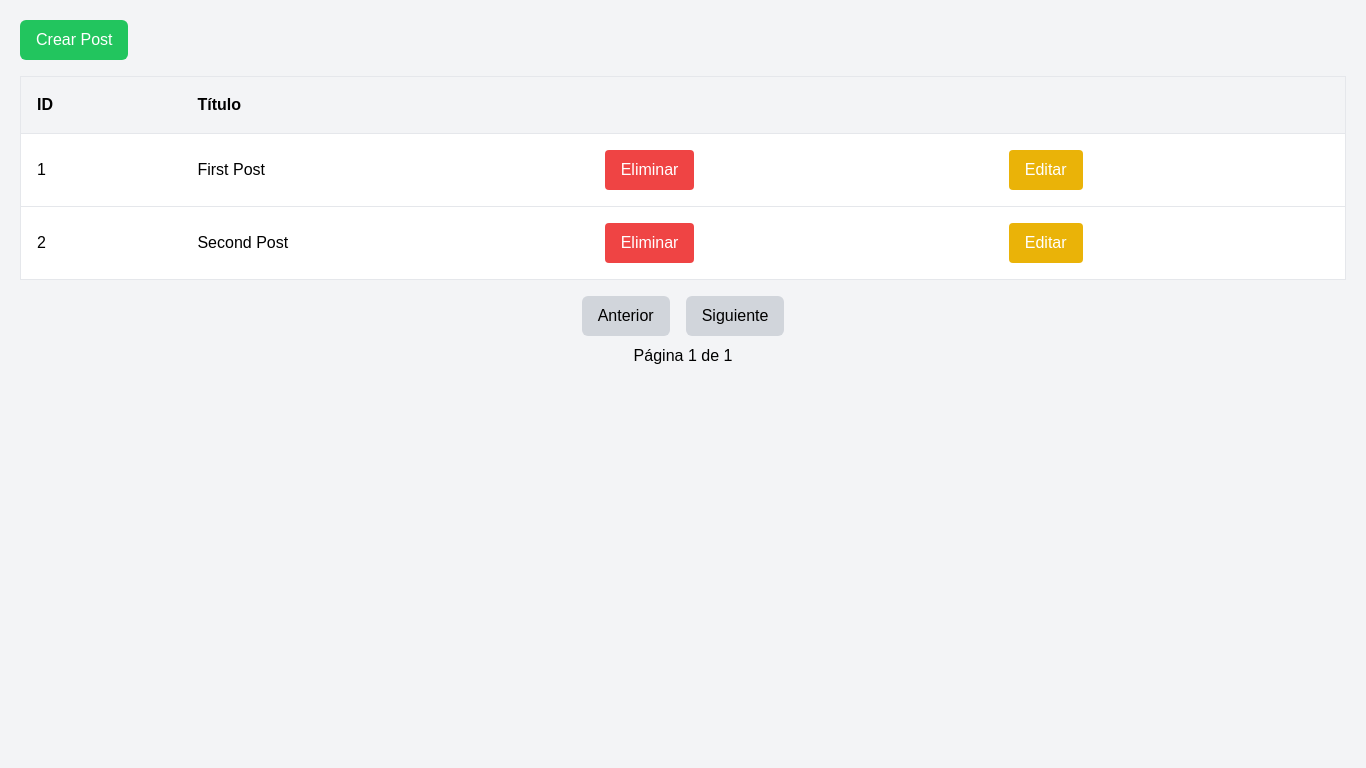
Scenario: PostList Component › handles edit post functionality
expect the text "First Post" is shown: met, box [181,134,589,206]
# Click en el botón "Editar" del primer post
Step 1. Click the button "Editar" in the row of "First Post" → (1046, 170), box [1009,150,1083,190]
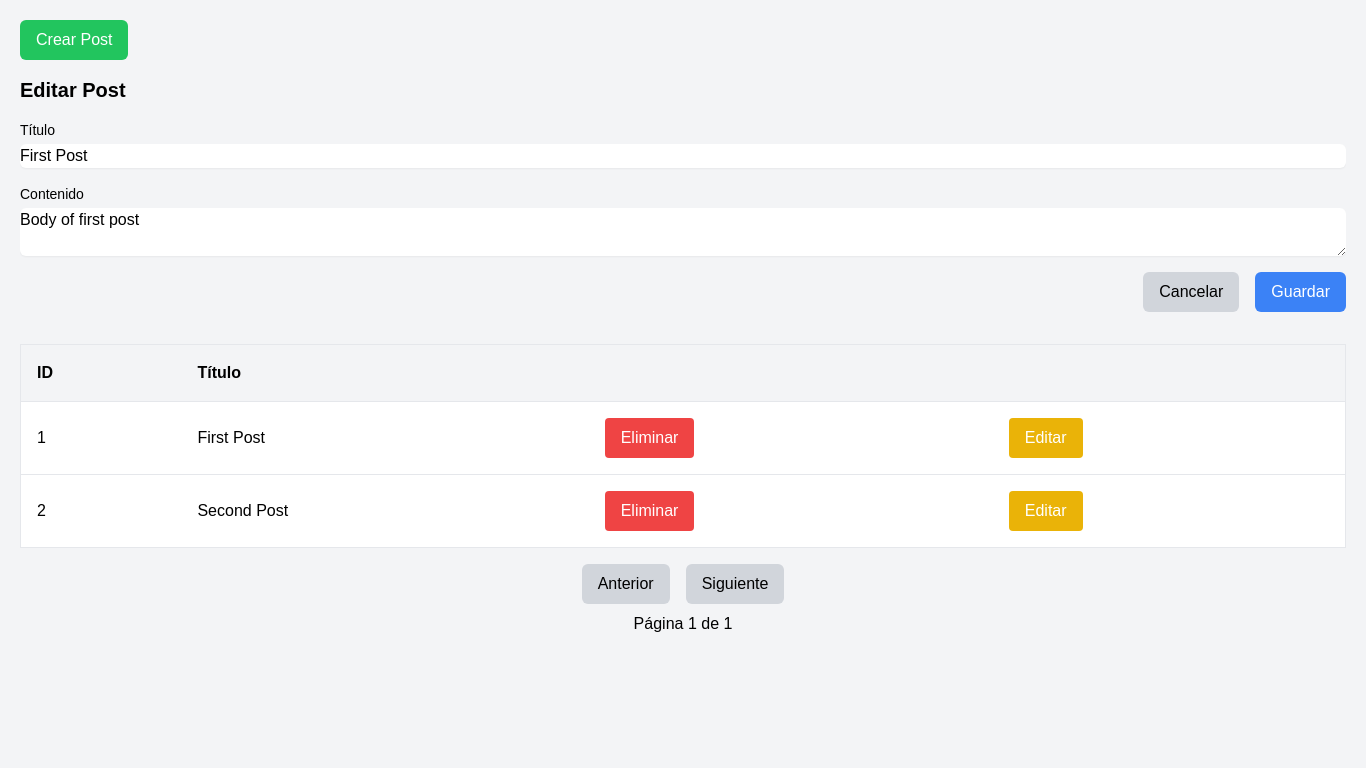
# Cambiar el título
Step 2. Replace the text in the field labelled "Título" with "Updated Post" → (683, 156), box [20,144,1346,168]
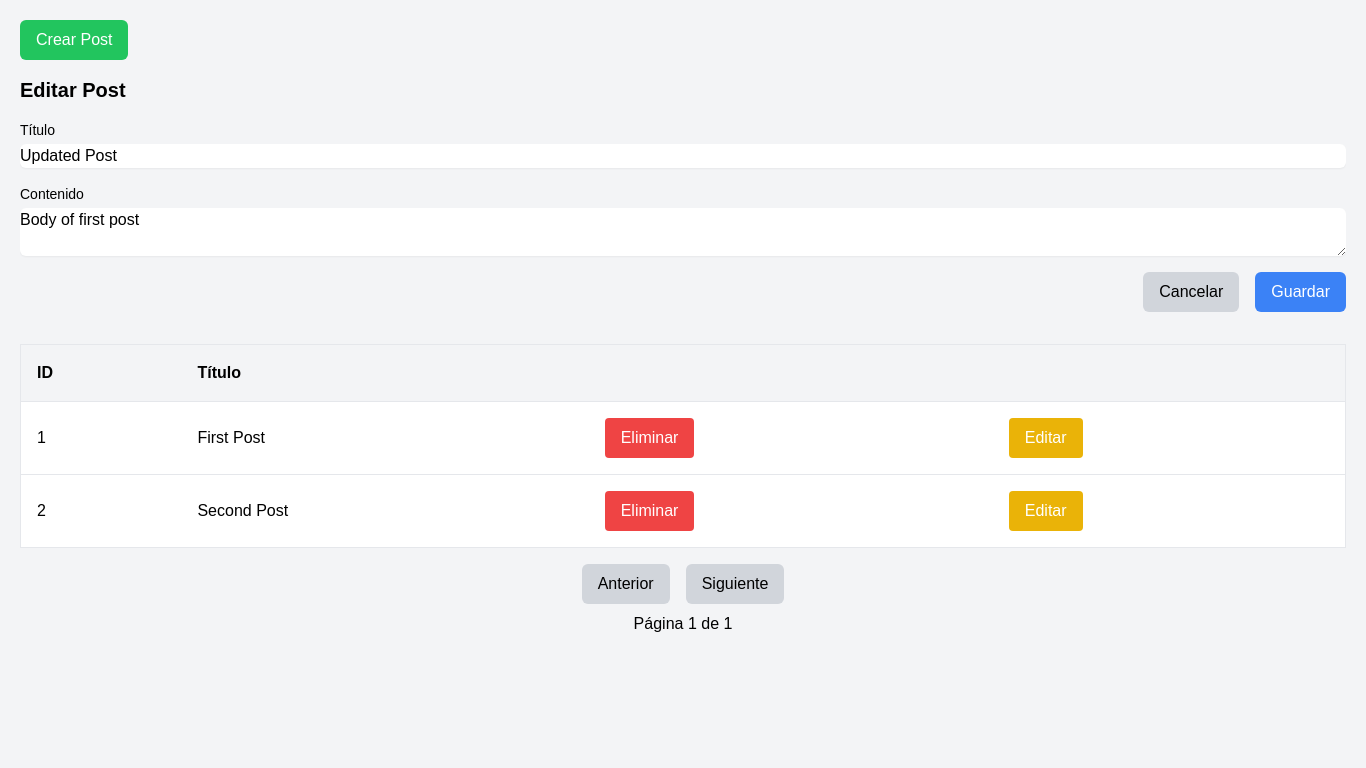
# Cambiar el contenido
Step 3. Replace the text in the text box labelled "Contenido" with "Updated content" → (683, 232), box [20,208,1346,256]
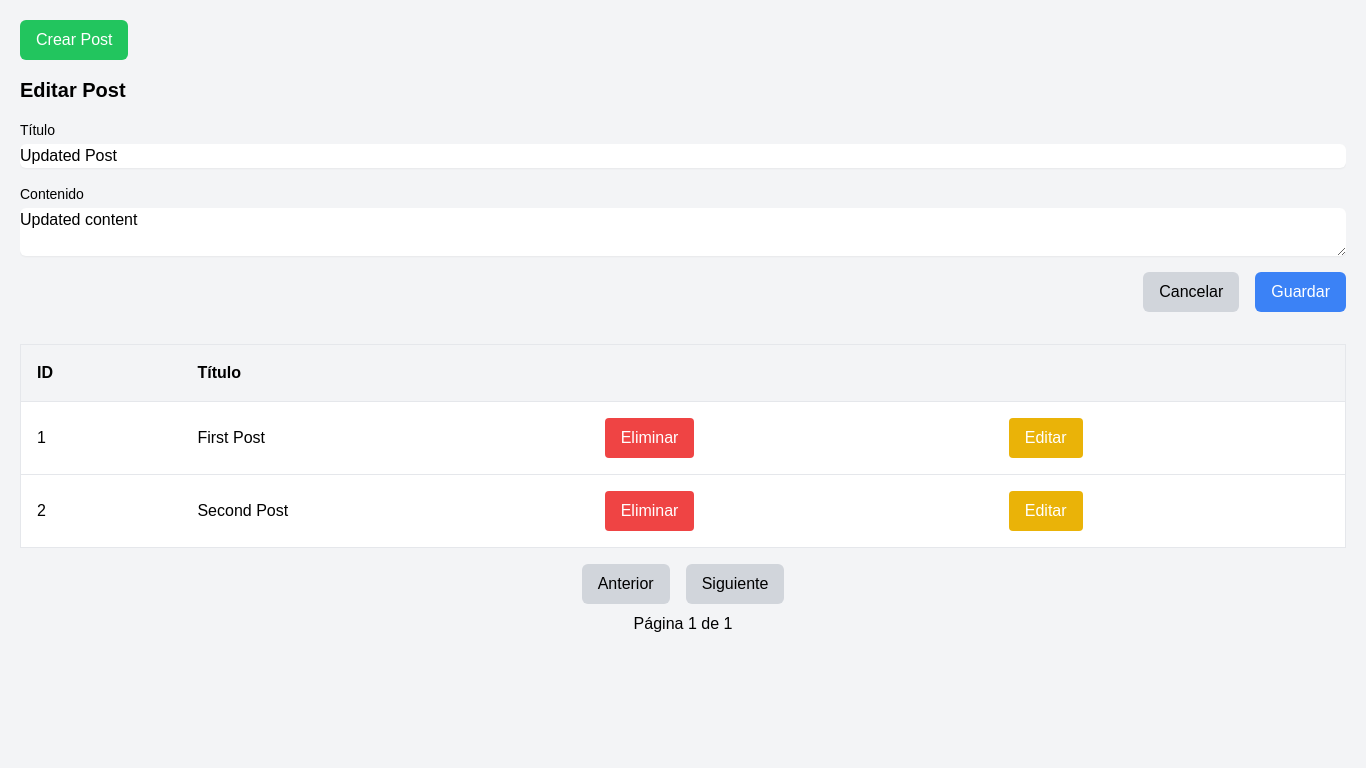
# Guardar los cambios
Step 4. Click the button "Guardar" → (1301, 292), box [1255,272,1346,312]
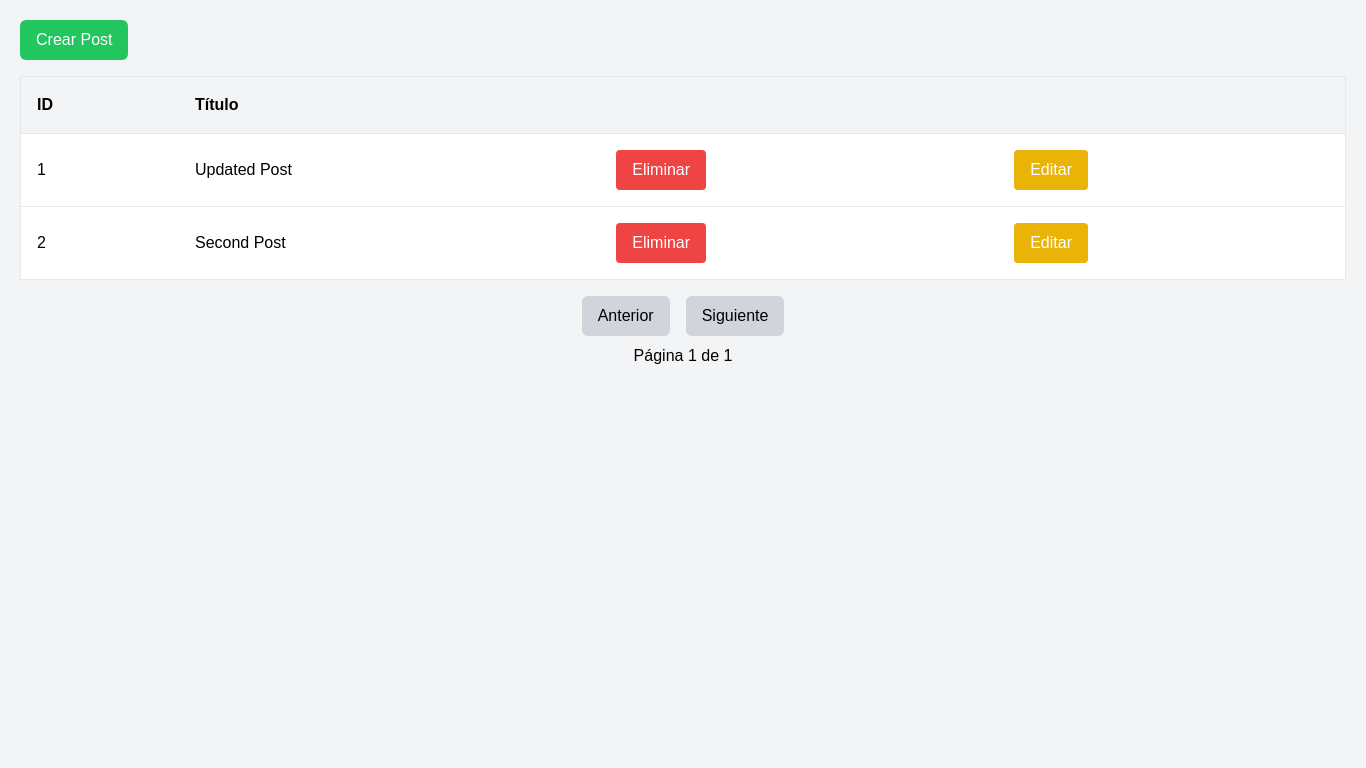
expect the text "Updated Post" is shown: met, box [179,134,600,206]
